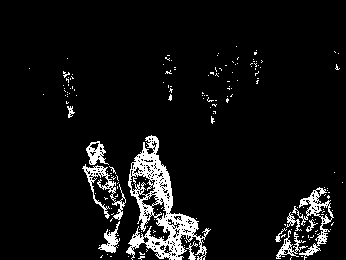person: (125, 135, 173, 257), (82, 141, 127, 255), (276, 183, 336, 260)
